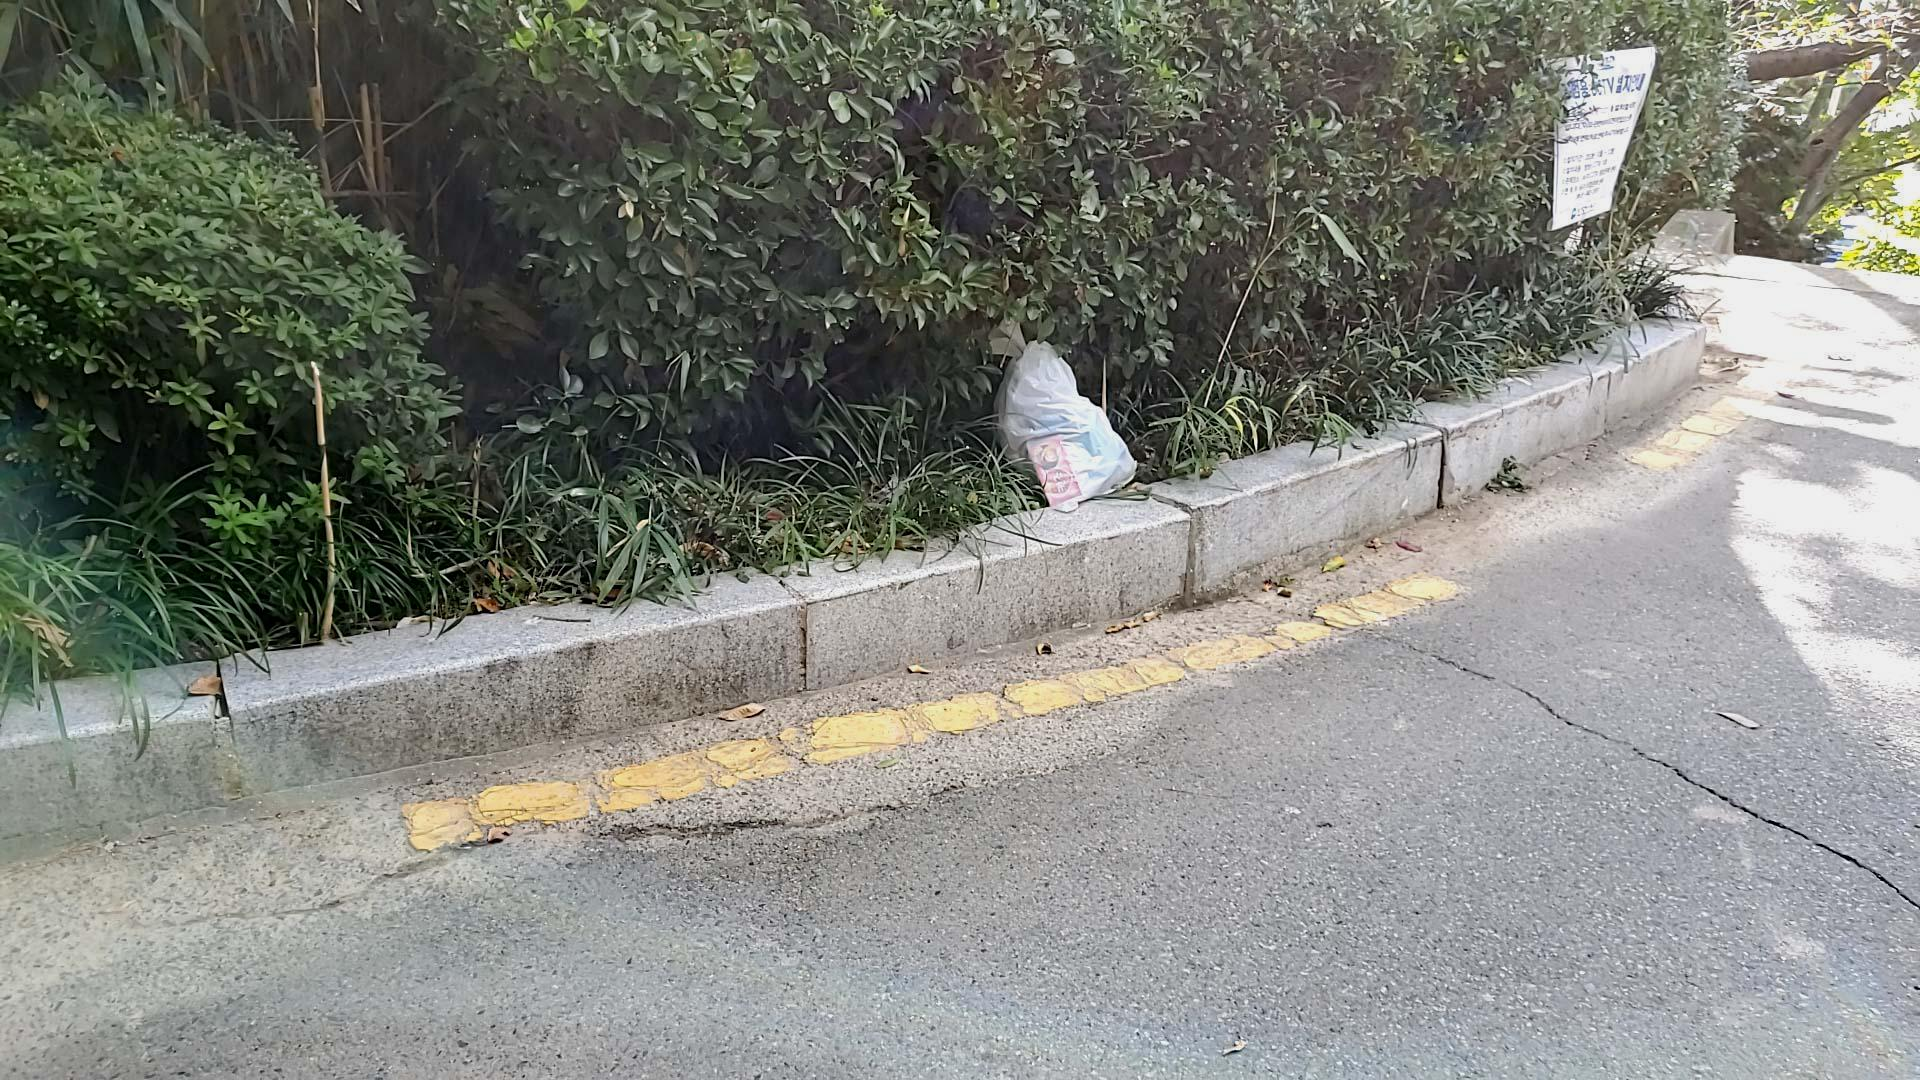white_bag: (973, 303, 1163, 527)
